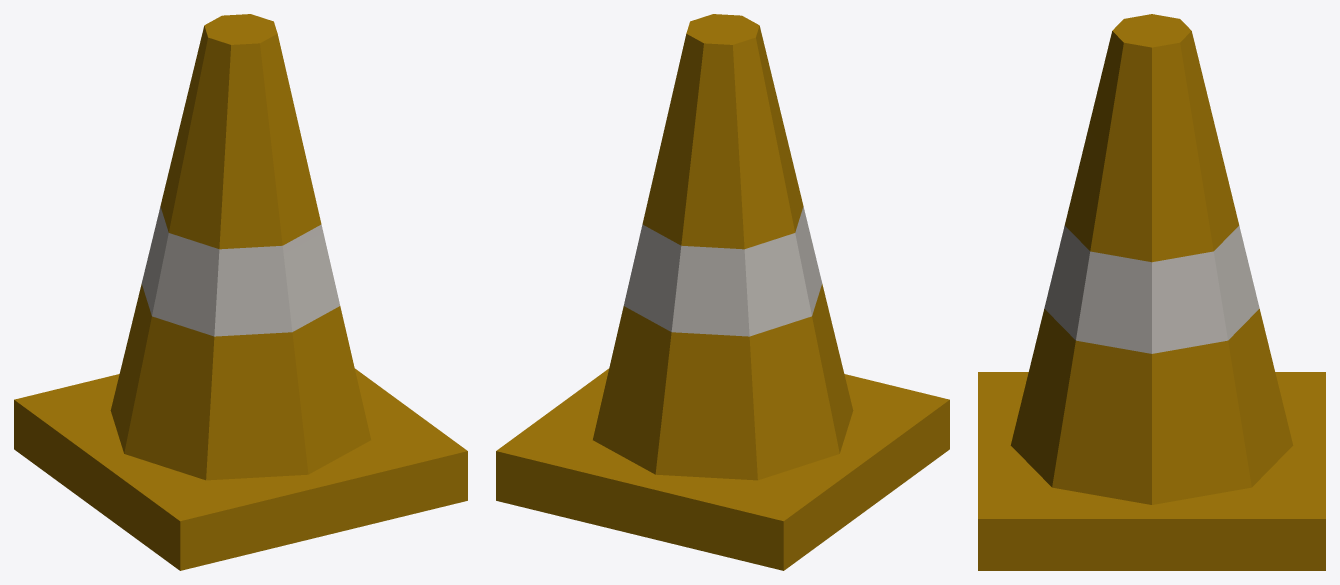
3 renders of one model, left to right at view 1: azimuth 30°, elevation 25°; view 2: azimuth 150°, elevation 25°; view 3: azimuth 270°, elevation 25°, orthographic. The views are drawn at different scales.
Parts seen in each view (by area): view 1: sm_cone; view 2: sm_cone; view 3: sm_cone.
Part boxes in pixels (bbox=[...]): sm_cone: bbox=[14, 14, 467, 570]; sm_cone: bbox=[496, 14, 949, 570]; sm_cone: bbox=[978, 14, 1325, 570].
Bounding box in the file's own units: 37.62 × 55.67 × 37.62.
